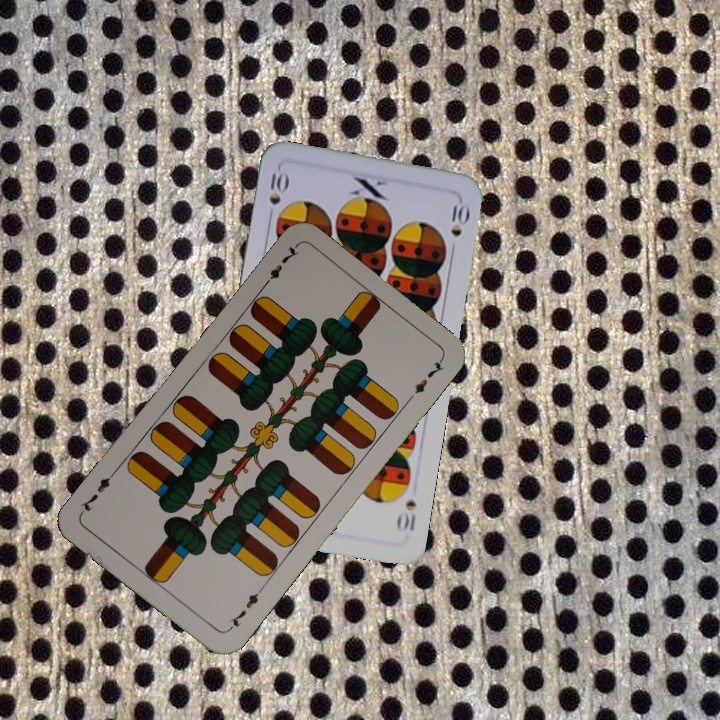E7: (258, 241, 302, 292), (223, 584, 266, 634)
S10: (265, 168, 290, 208), (393, 496, 419, 533)
